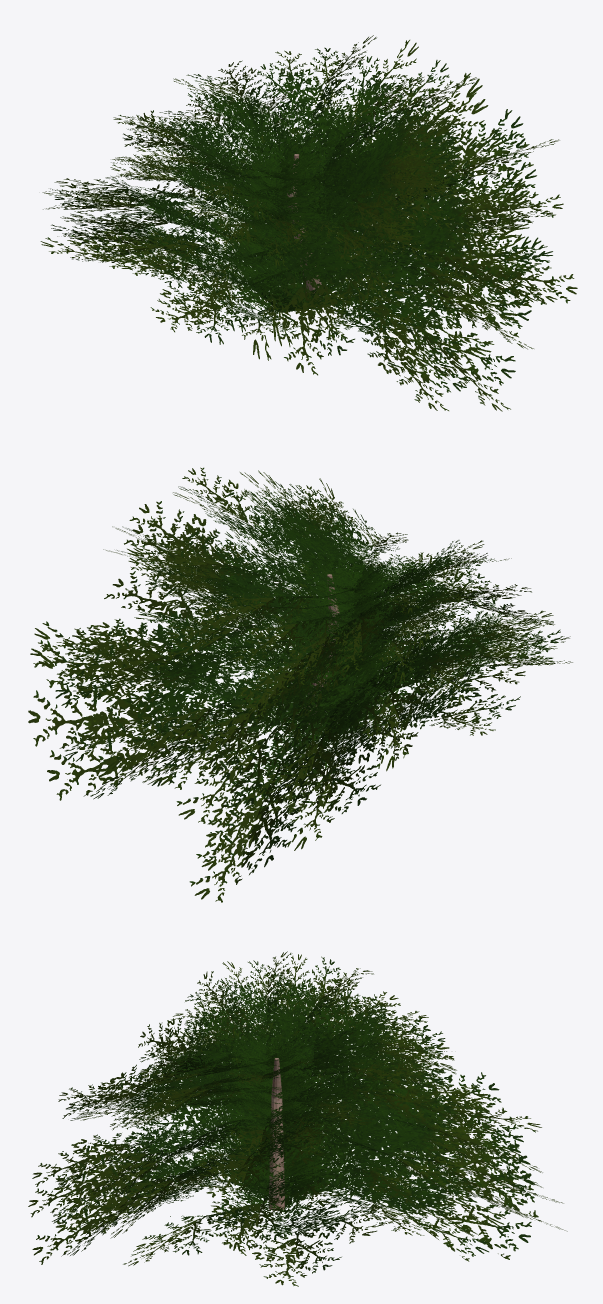
The model's file is SM_bush_02.glb.
3 views of the same model, one above another, from view 1: azimuth 30°, elevation 25°; view 2: azimuth 150°, elevation 25°; view 3: azimuth 270°, elevation 25° (orthographic). The views are drawn at different scales.
Parts seen in each view (by area): view 1: SM_bush_02; view 2: SM_bush_02; view 3: SM_bush_02.
Boxes of the visible parts, left/top/right/bottom form: SM_bush_02: left=40, top=35, right=577, bottom=411; SM_bush_02: left=28, top=467, right=572, bottom=902; SM_bush_02: left=28, top=951, right=567, bottom=1286.
Size of the model in its own units: 2.59 by 1.43 by 2.82.
Materials: 2 (2 with a texture image).
